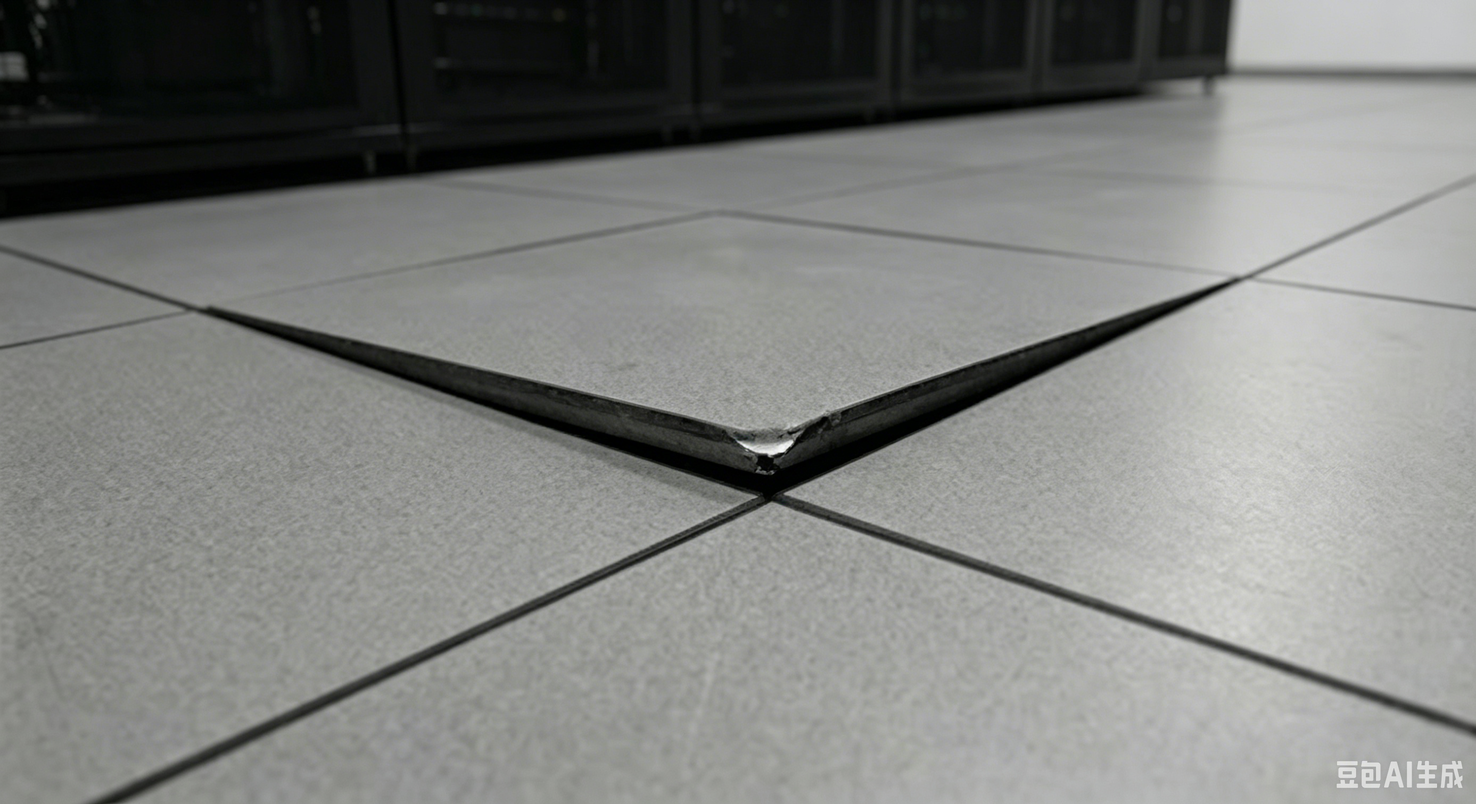floor_defect: (216, 281, 1241, 508)
